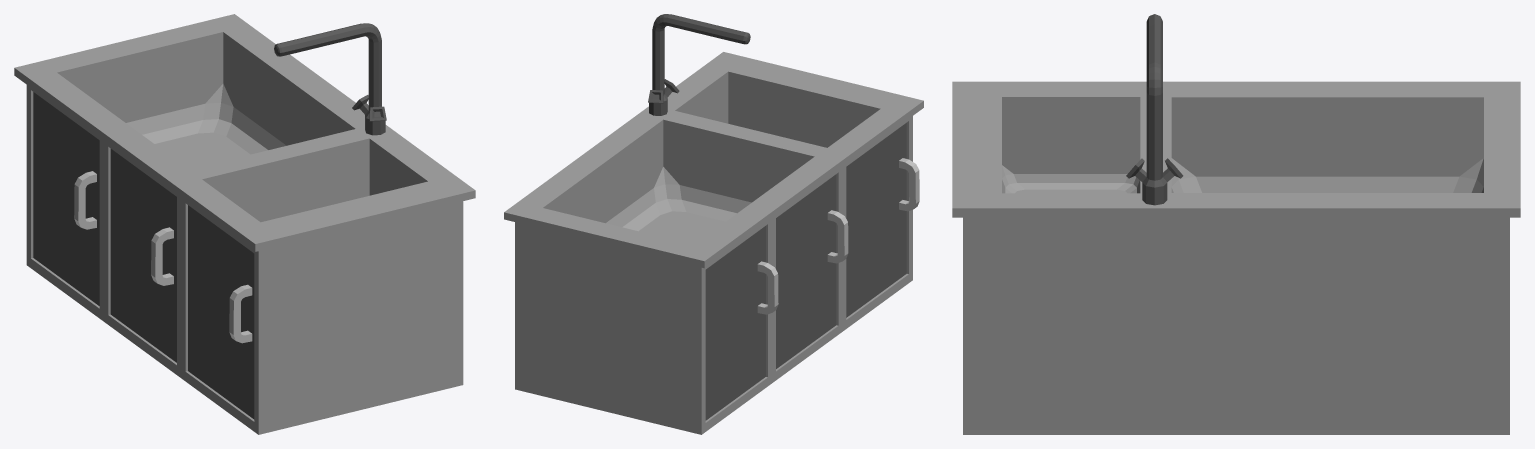
Rendered from Sink.fbx.
The picture shows the model from 3 angles, left to right: view 1: azimuth 30°, elevation 25°; view 2: azimuth 150°, elevation 25°; view 3: azimuth 270°, elevation 25°; orthographic projection. The views are drawn at different scales.
Parts seen in each view (by area): view 1: Sink; view 2: Sink; view 3: Sink.
Boxes of the visible parts, box(x1,y1,x2,y2) form: Sink: box(14, 14, 475, 434); Sink: box(504, 14, 923, 434); Sink: box(952, 14, 1520, 434).
Size of the model in its own units: 75.18 by 96.24 by 137.
